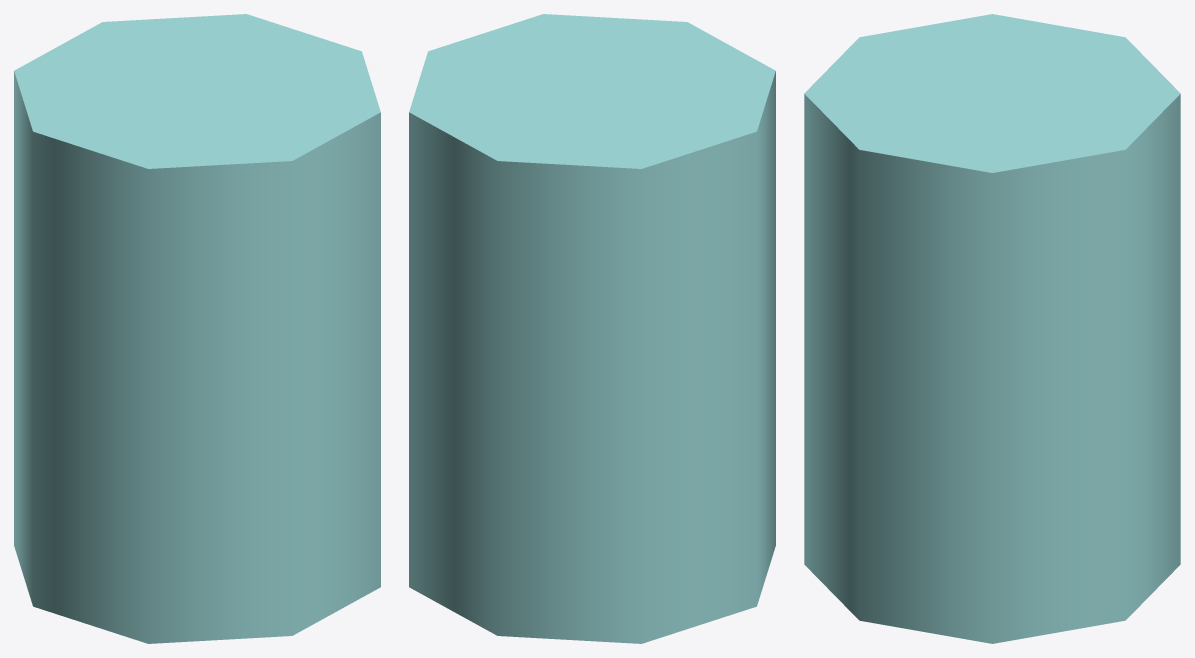
The model's file is radx.obj.
The picture shows the model from 3 angles, left to right: view 1: azimuth 30°, elevation 25°; view 2: azimuth 150°, elevation 25°; view 3: azimuth 270°, elevation 25°; orthographic projection.
Visible parts, largest first — view 1: Cylinder01; view 2: Cylinder01; view 3: Cylinder01.
Part boxes in pixels (x1,y1,x2,y2): Cylinder01: (14,14,380,643); Cylinder01: (409,14,775,643); Cylinder01: (804,14,1180,643).
Size of the model in its own units: 283 by 391 by 283.
